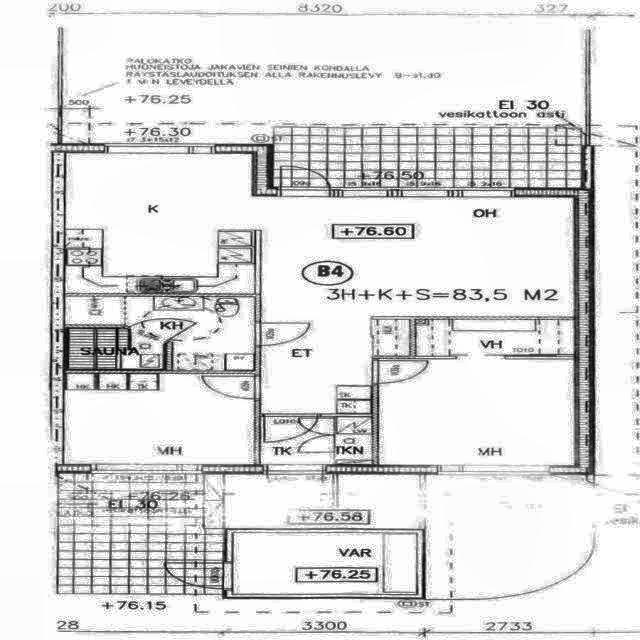room: (379, 359, 576, 464), (64, 373, 255, 464), (416, 319, 577, 356), (260, 417, 371, 464), (65, 328, 165, 370)
